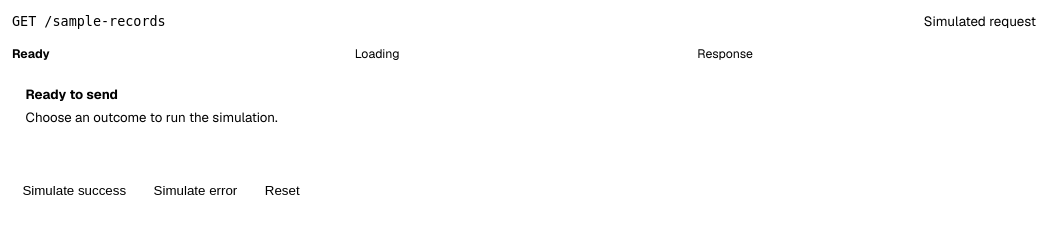
Test case: reset cancels a pending response and the next request keeps its own deadline
This screenshot has width=1048, height=230.
Later steps or results of the test are not shown.
Click the button "Simulate error": click(195, 191) [143,169,248,213]
Wait 400 ms
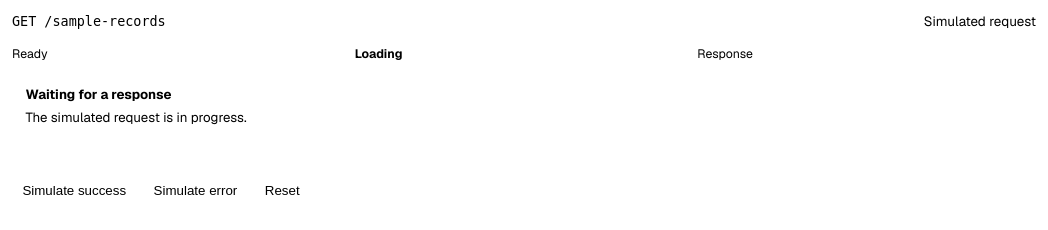
Click the button "Reset": click(282, 191) [254,169,310,213]
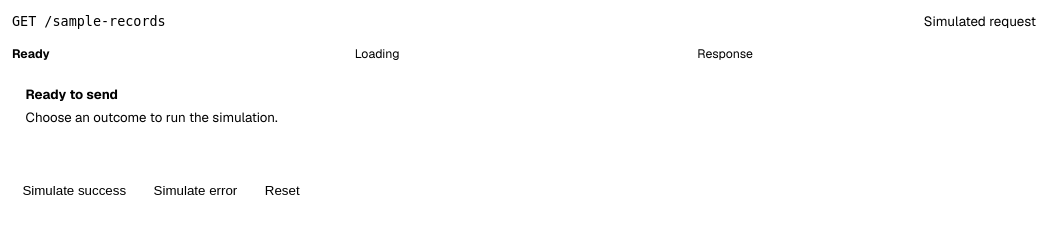
Click the button "Simulate success": click(74, 191) [12,169,136,213]
Wait 750 ms
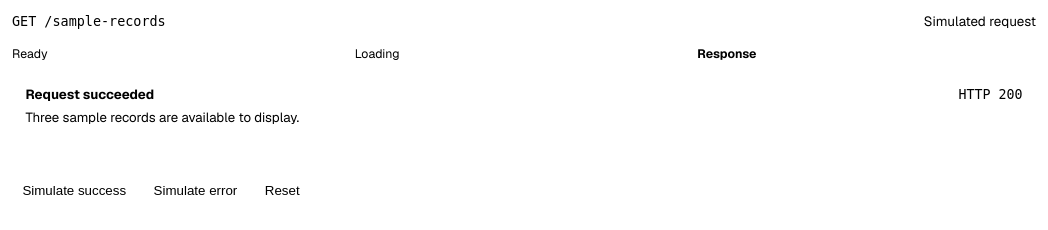
Now the element that starts with "Request succeeded" is shown, box [26,86,154,103]
